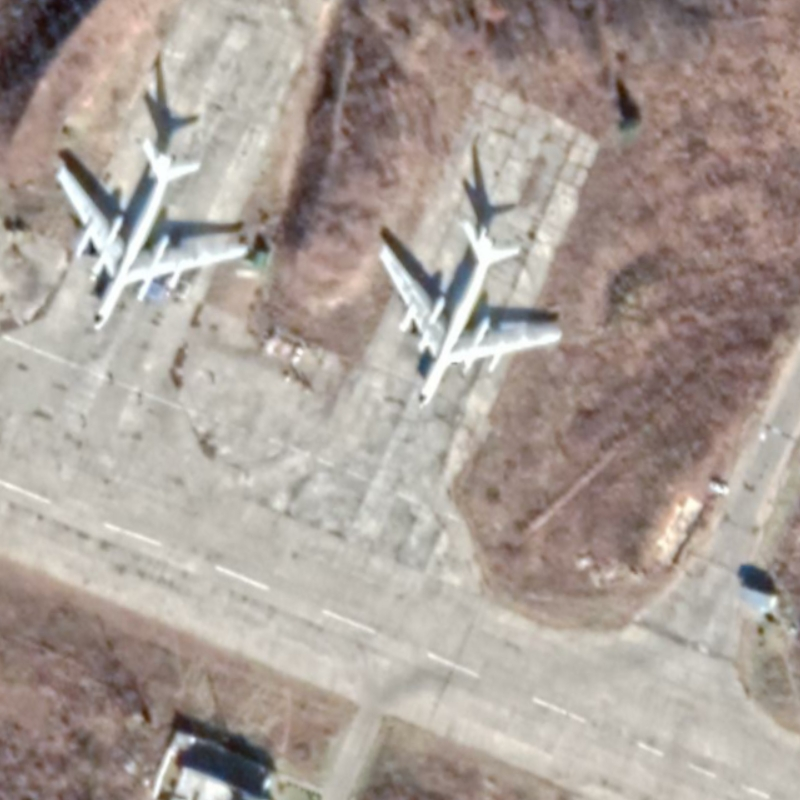A17: (49, 135, 252, 337), (374, 215, 567, 415)
